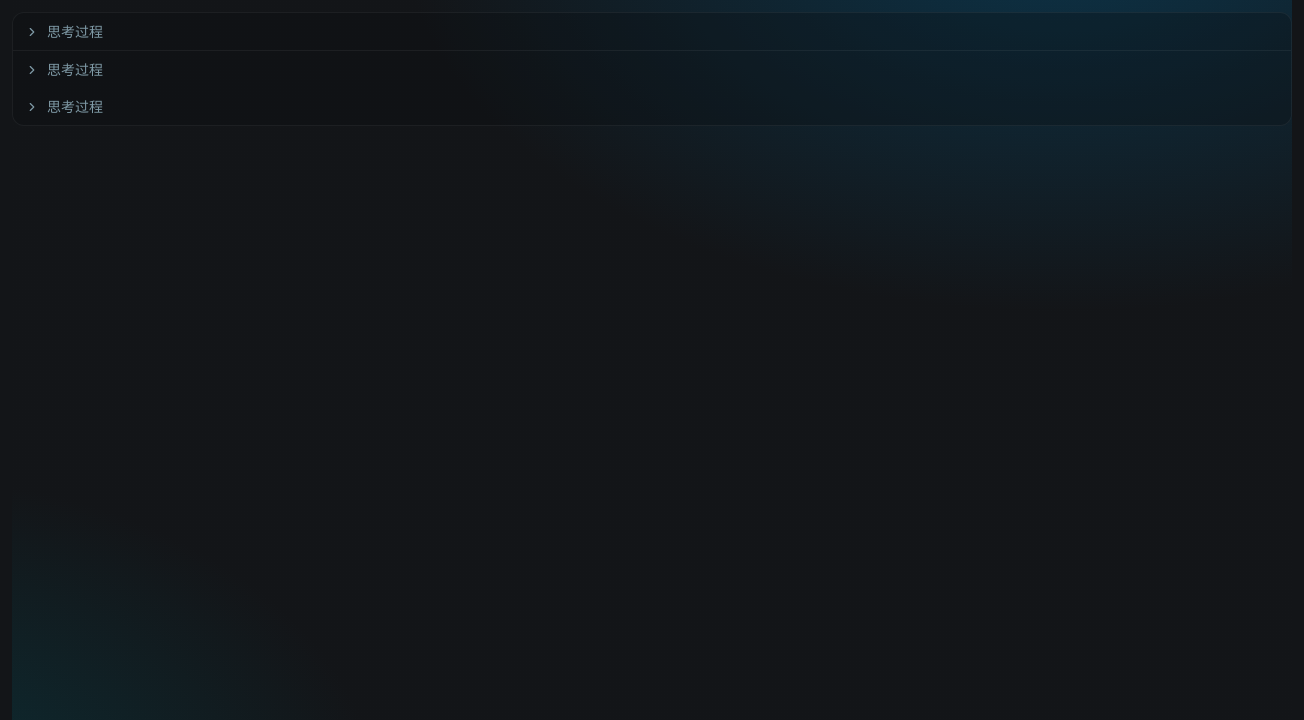
BlockGroup compact folding › shows all 3 blocks without exposing an inactive fold control
Click the 2nd button "思考过程": (75, 70) [13,51,1291,88]
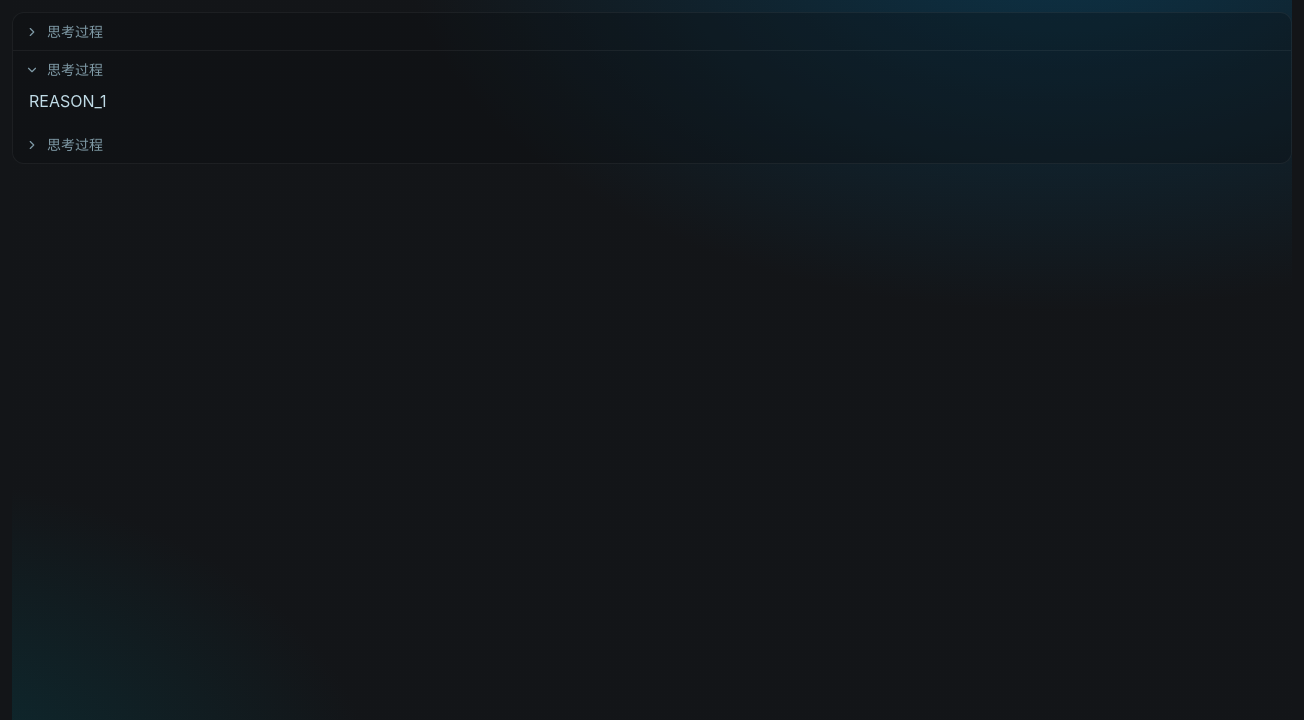
Result: the text "REASON_1" is shown at [29,91,107,111]
